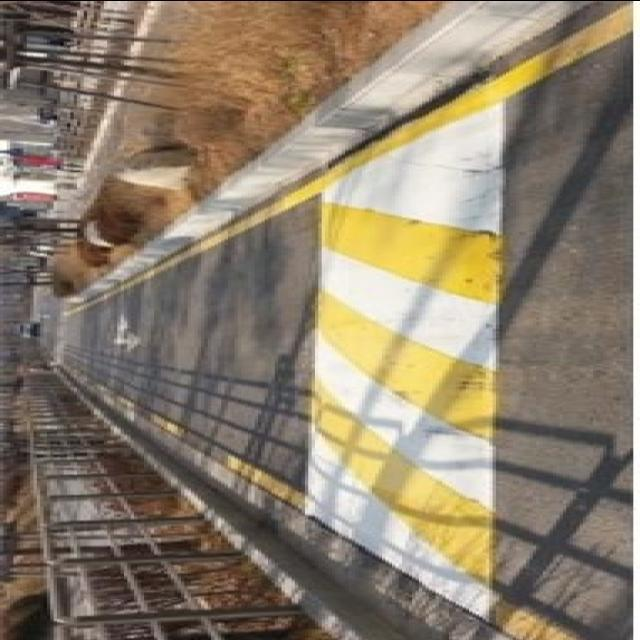speedbreaker: (288, 92, 510, 640)
